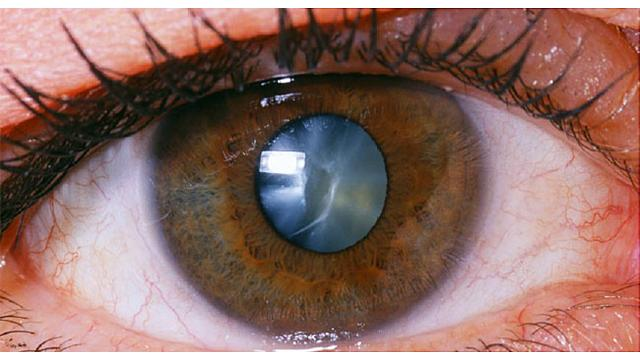eye: (149, 72, 485, 342)
